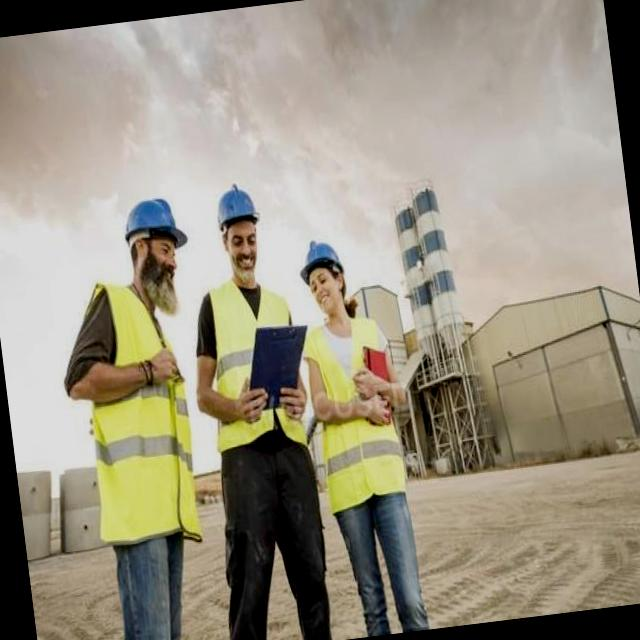vest: (76, 280, 206, 544), (304, 313, 404, 500), (202, 291, 276, 452)
